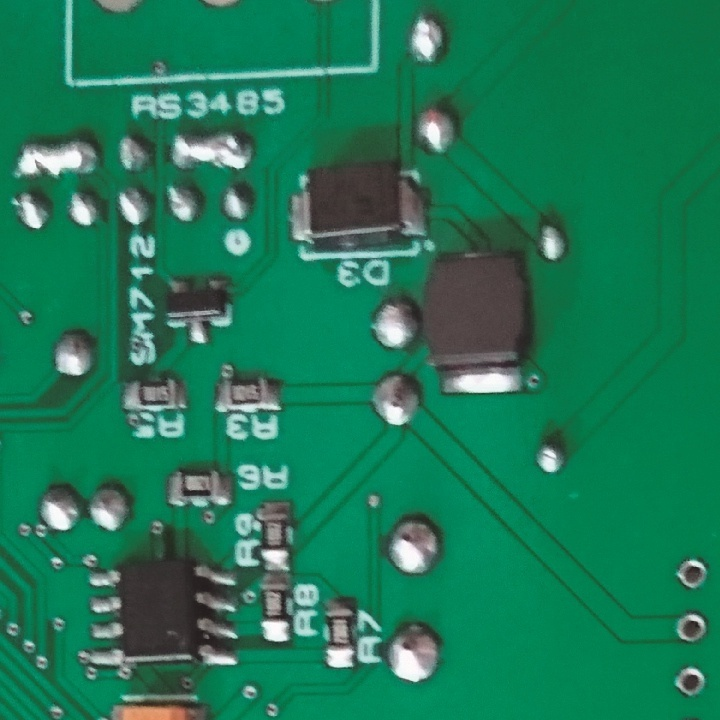F: (673, 553, 707, 592), (670, 663, 707, 698), (673, 609, 708, 644)
P: (167, 123, 254, 172), (13, 135, 103, 181)
